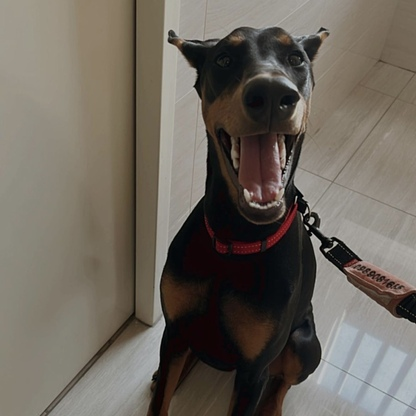doberman: (144, 17, 342, 415)
